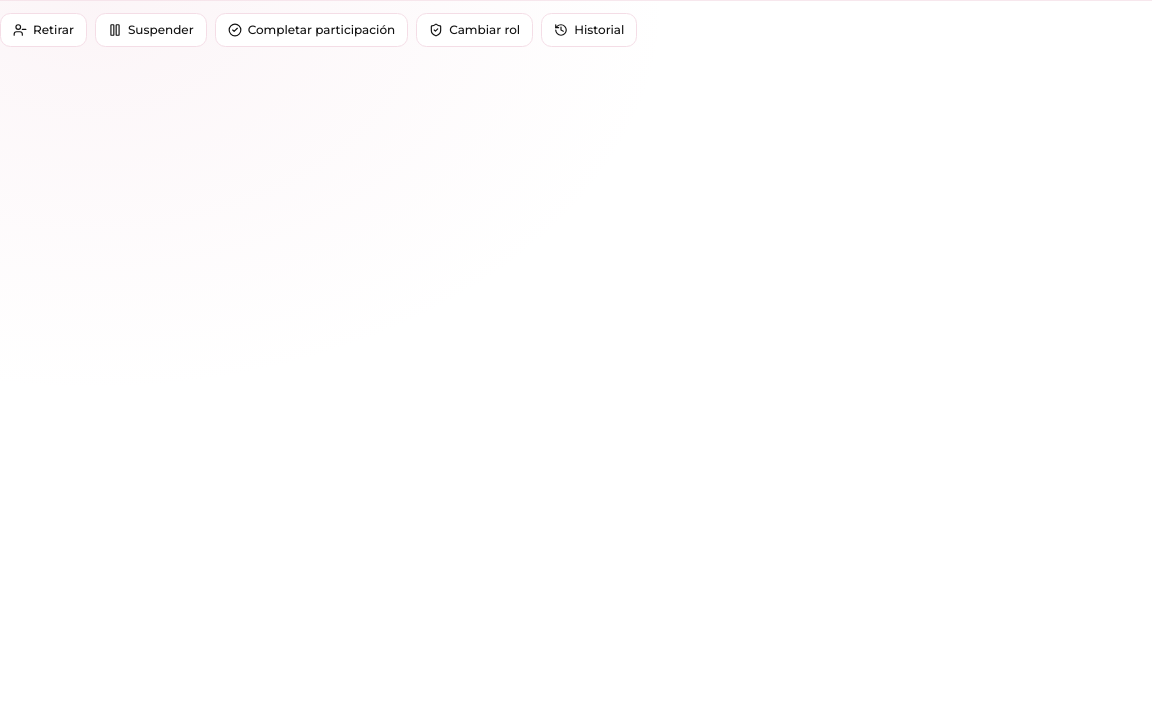
Test case: shows history actor, reason, transitions and organization-wide role changes
What coordinates should you click on to do the following:
click the button "Historial"
I would click on:
 (589, 30)
Its box is x1=541 y1=13 x2=637 y2=47.
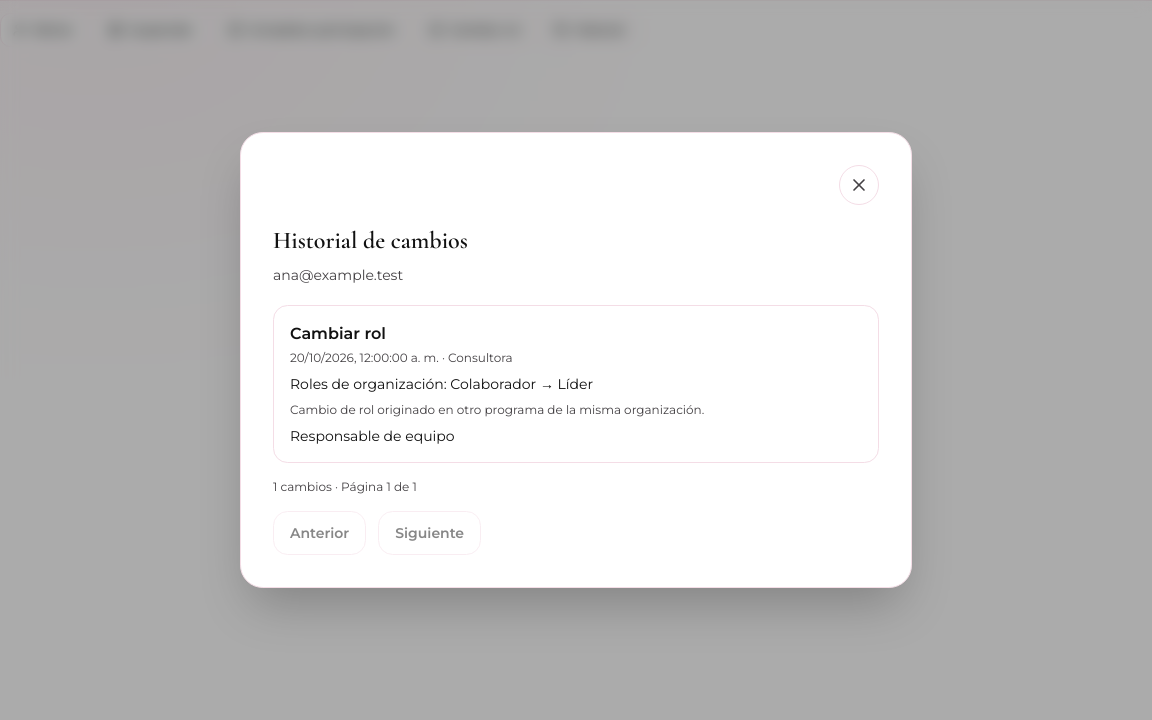
Now the text "Responsable de equipo" is shown, box x1=290 y1=427 x2=455 y2=445
Now the text "Roles de organización: Colaborador → Líder" is shown, box x1=290 y1=375 x2=593 y2=393
Now the text "originado en otro programa" is shown, box x1=290 y1=402 x2=704 y2=417
